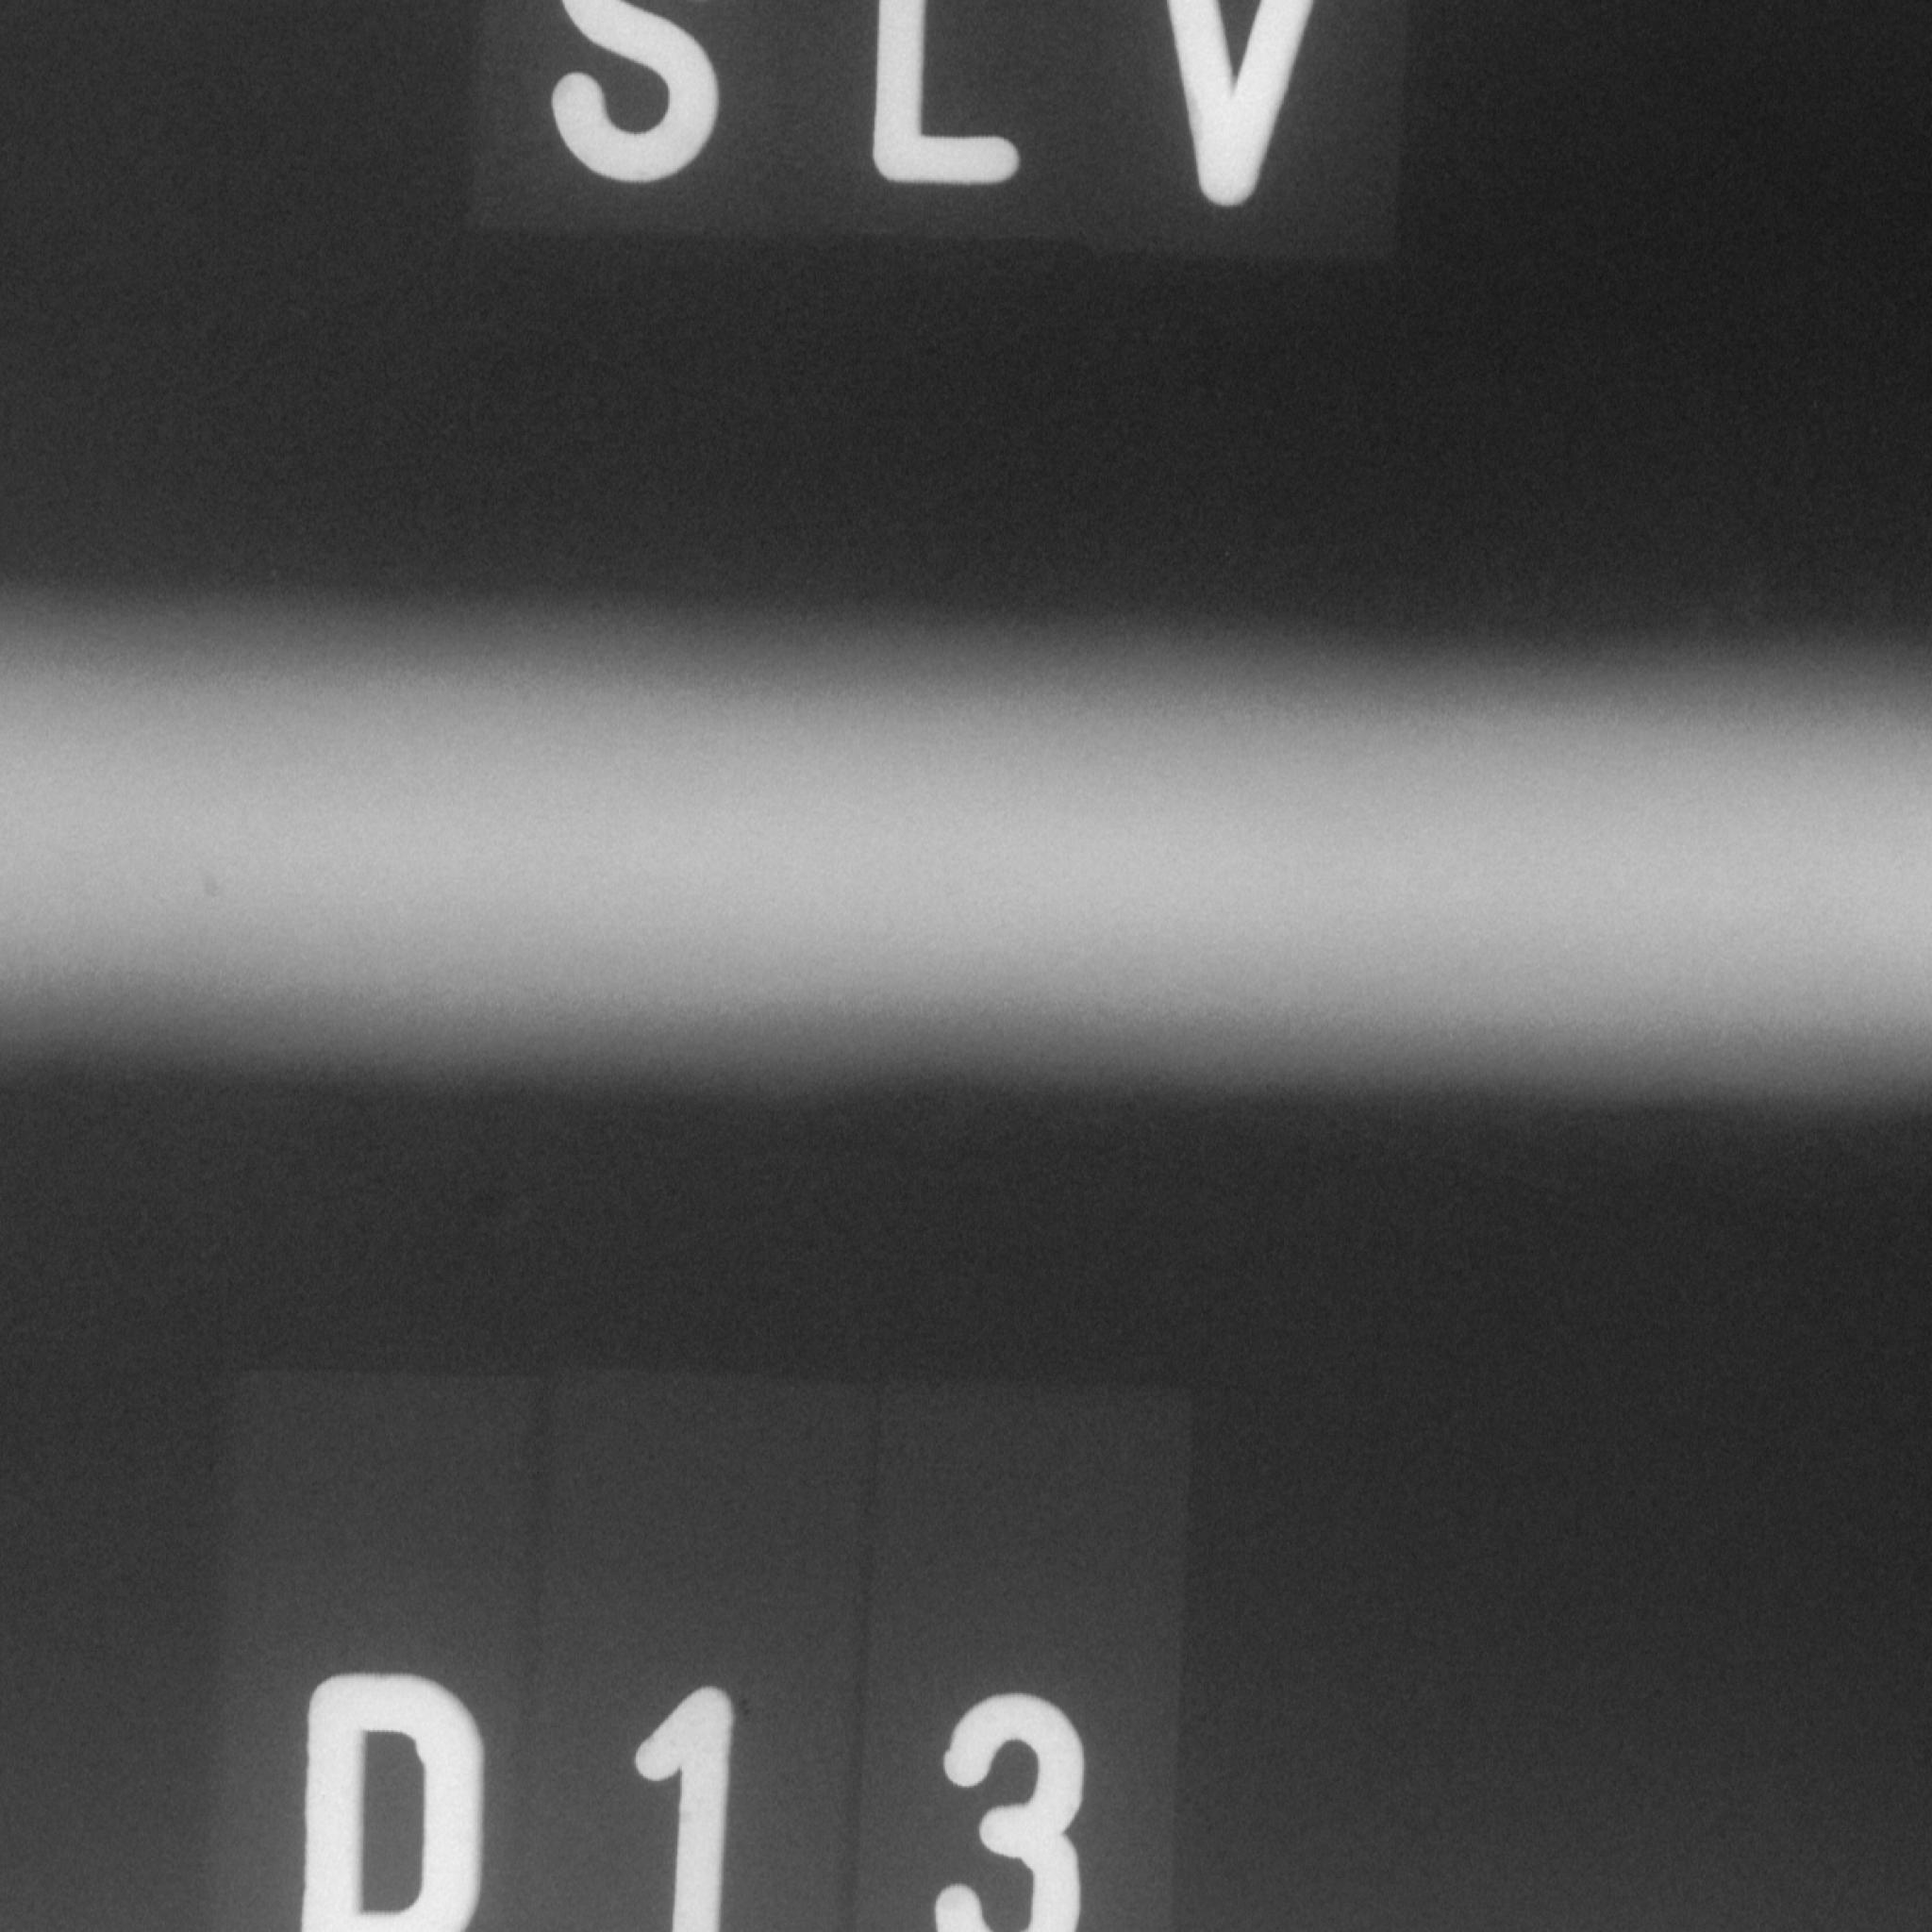Sem defeitos: (0, 566, 1932, 1136)
